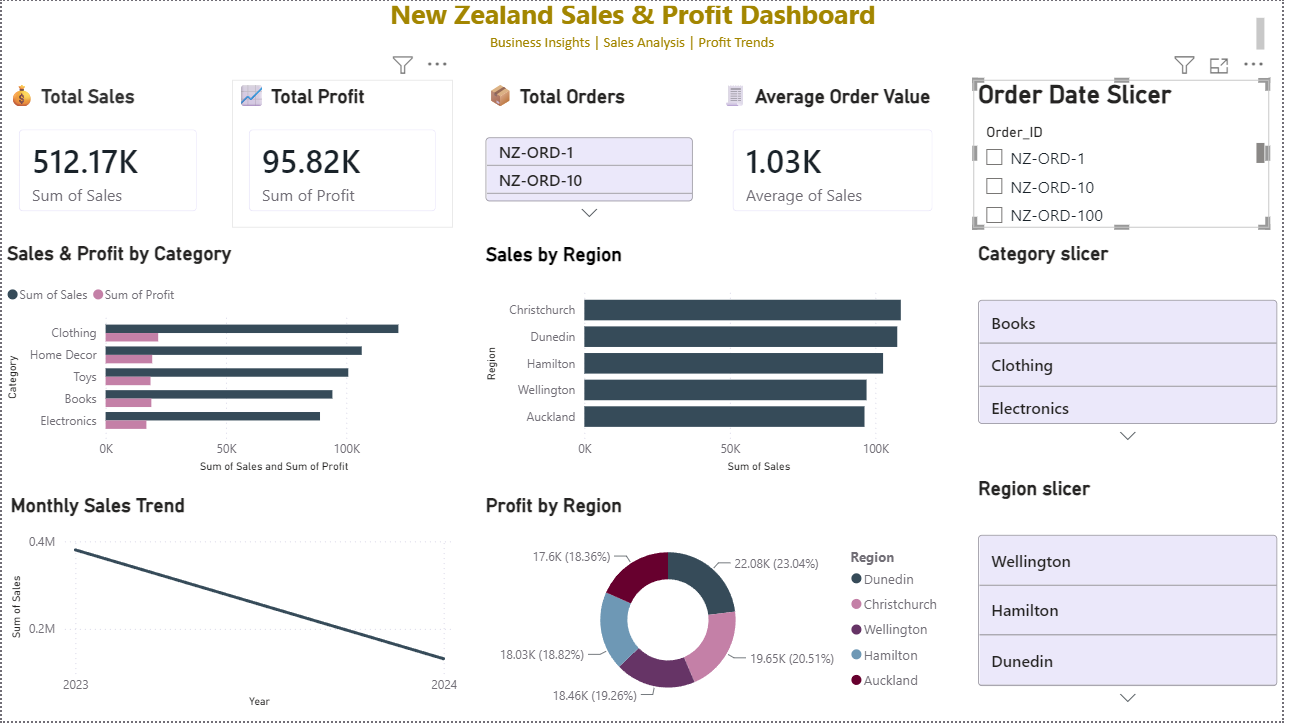

This screenshot's page, from the dashboard's own definition file:
{"tool":"powerbi","page":{"name":"Page 1","canvas":[1280,720],"ordinal":0},"visuals":[{"type":"cardVisual","title":"💰 Total Sales","fields":{"Data":["Sum(New_Zealand_Sales_and_Profit_Dataset.Sales)"]},"box":[0,78.3,212.8,149.2],"z":0},{"type":"cardVisual","title":"📈 Total Profit","fields":{"Data":["Sum(New_Zealand_Sales_and_Profit_Dataset.Profit)"]},"box":[229.9,78.3,221.3,149.2],"z":1000},{"type":"cardVisual","title":"📦 Total Orders","fields":{"Rows":["New_Zealand_Sales_and_Profit_Dataset.Order_ID"]},"box":[478.1,78.3,217.7,149.2],"z":2000},{"type":"clusteredBarChart","title":"Sales by Region","fields":{"Category":["New_Zealand_Sales_and_Profit_Dataset.Region"],"Y":["Sum(New_Zealand_Sales_and_Profit_Dataset.Sales)"]},"box":[478.1,242.1,472,233.6],"z":3000},{"type":"clusteredBarChart","title":"Sales & Profit by Category","fields":{"Category":["New_Zealand_Sales_and_Profit_Dataset.Category"],"Y":["Sum(New_Zealand_Sales_and_Profit_Dataset.Sales)","Sum(New_Zealand_Sales_and_Profit_Dataset.Profit)"]},"box":[0,240.9,459.8,234.8],"z":4000},{"type":"lineChart","title":"Monthly Sales Trend","fields":{"Category":["New_Zealand_Sales_and_Profit_Dataset.Order_Date.Variation.Date Hierarchy.Year","New_Zealand_Sales_and_Profit_Dataset.Order_Date.Variation.Date Hierarchy.Quarter","New_Zealand_Sales_and_Profit_Dataset.Order_Date.Variation.Date Hierarchy.Month","New_Zealand_Sales_and_Profit_Dataset.Order_Date.Variation.Date Hierarchy.Day"],"Y":["Sum(New_Zealand_Sales_and_Profit_Dataset.Sales)"]},"box":[3.7,494,456.1,217.7],"z":5000},{"type":"donutChart","title":"Profit by Region","fields":{"Category":["New_Zealand_Sales_and_Profit_Dataset.Region"],"Y":["Sum(New_Zealand_Sales_and_Profit_Dataset.Profit)"]},"box":[478.1,494,470.8,217.7],"z":6000},{"type":"slicer","title":"Order Date Slicer","fields":{"Values":["New_Zealand_Sales_and_Profit_Dataset.Order_ID"]},"box":[971.2,78.8,296.2,148.8],"z":8000},{"type":"cardVisual","title":"🧾 Average Order Value","fields":{"Data":["Avg(New_Zealand_Sales_and_Profit_Dataset.Sales)"]},"box":[714.1,78.3,234.8,149.2],"z":9000},{"type":"cardVisual","title":"Category  slicer","fields":{"Rows":["New_Zealand_Sales_and_Profit_Dataset.Category"]},"box":[970.9,240.9,309.4,209.1],"z":11000},{"type":"cardVisual","title":"Region slicer","fields":{"Rows":["New_Zealand_Sales_and_Profit_Dataset.Region"]},"box":[970.9,475.7,309.4,236],"z":11001},{"type":"textbox","box":[0,0,1267.5,55],"z":11002}]}

Visuals, with their boxes in screenshot pixels (x1, y1, x2, y2), scaled from the page's 1280x720 canvas onto the 1290x724 screenshot:
"💰 Total Sales" cardVisual: BBox(0, 79, 214, 229)
"📈 Total Profit" cardVisual: BBox(232, 79, 455, 229)
"📦 Total Orders" cardVisual: BBox(482, 79, 701, 229)
"Sales by Region" clusteredBarChart: BBox(482, 243, 958, 478)
"Sales & Profit by Category" clusteredBarChart: BBox(0, 242, 463, 478)
"Monthly Sales Trend" lineChart: BBox(4, 497, 463, 716)
"Profit by Region" donutChart: BBox(482, 497, 956, 716)
"Order Date Slicer" slicer: BBox(979, 79, 1277, 229)
"🧾 Average Order Value" cardVisual: BBox(720, 79, 956, 229)
"Category  slicer" cardVisual: BBox(978, 242, 1289, 452)
"Region slicer" cardVisual: BBox(978, 478, 1289, 716)
textbox: BBox(0, 0, 1277, 55)
